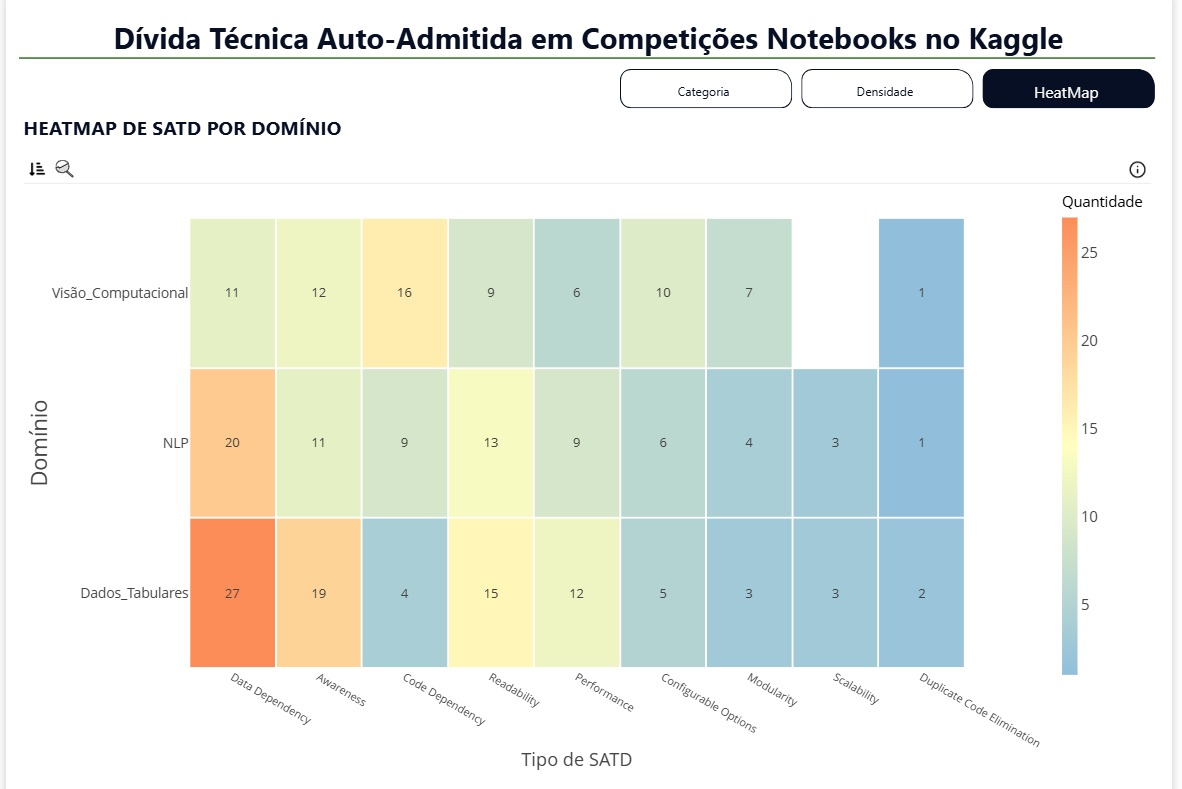

The dashboard page shown, as its layout file describes it:
{"tool":"powerbi","page":{"name":"HeatMap","canvas":[1280,900],"ordinal":2},"visuals":[{"type":"heatmap453A07F28F01EE72753E360387DD1430","title":"RQ3: Heatmap de SATD por Domínio","fields":{"col_0":["Titulo planilha - AI Analitics.tipo_de_divida"],"col_1":["Titulo planilha - AI Analitics.domain"],"col_2":["Titulo planilha - AI Analitics.matched_keyword"]},"box":[14.3,171.2,1247.9,691.5],"z":2000},{"type":"pageNavigator","title":"Navegador","box":[674,81.8,587.8,43.1],"z":3001},{"type":"textbox","box":[14.4,124.9,597.7,46.4],"z":3002},{"type":"textbox","box":[74,19.9,1131.4,59.7],"z":3003},{"type":"shape","box":[14.4,57.5,1247.4,24.3],"z":3004}]}

Visuals, with their boxes on the page's 1280x900 design canvas (x1, y1, x2, y2). These are canvas units, not pixel positions in the 1182x789 screenshot, which may show the page scaled, cropped or inside an application window:
"RQ3: Heatmap de SATD por Domínio" heatmap453A07F28F01EE72753E360387DD1430: crop(14, 171, 1262, 863)
"Navegador" pageNavigator: crop(674, 82, 1262, 125)
textbox: crop(14, 125, 612, 171)
textbox: crop(74, 20, 1205, 80)
shape: crop(14, 58, 1262, 82)
